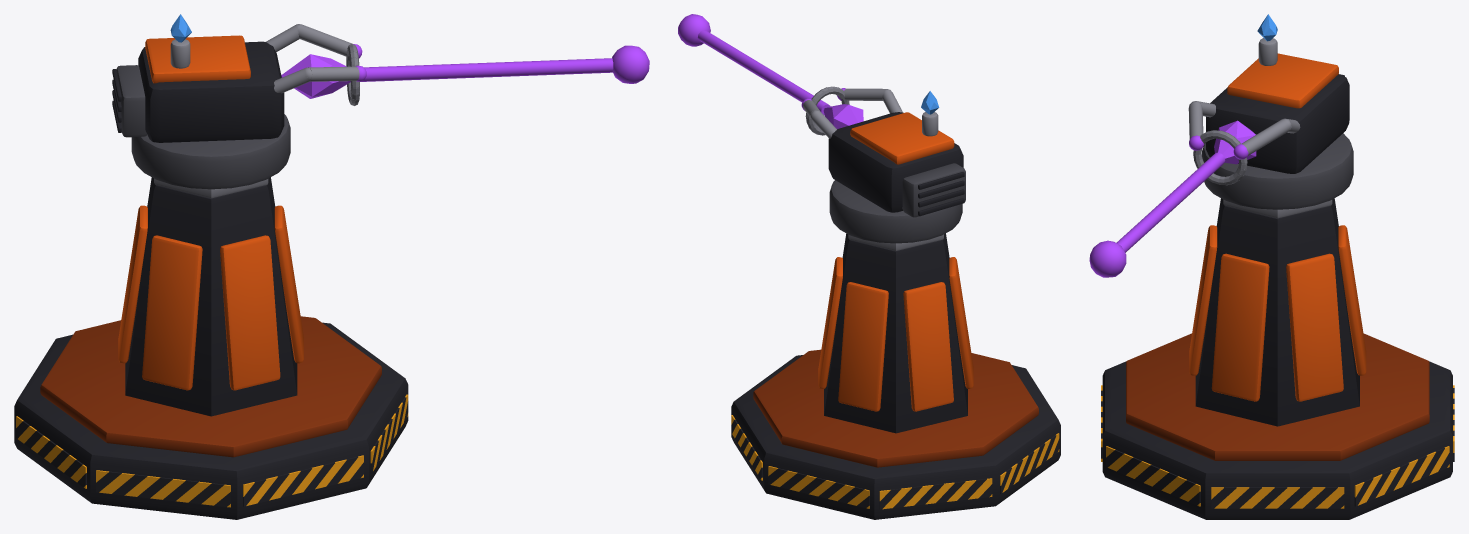
The model's file is LaserTower.obj.
3 views of the same model, side by side, from view 1: azimuth 30°, elevation 25°; view 2: azimuth 150°, elevation 25°; view 3: azimuth 270°, elevation 25° (orthographic). The views are drawn at different scales.
Parts seen in each view (by area): view 1: LaserTower; view 2: LaserTower; view 3: LaserTower.
Boxes of the visible parts, x1,y1,x2,y2 form: LaserTower: (14,14,649,519); LaserTower: (678,14,1060,519); LaserTower: (1089,14,1454,519).
Size of the model in its own units: 1.77 by 1.46 by 1.15.
